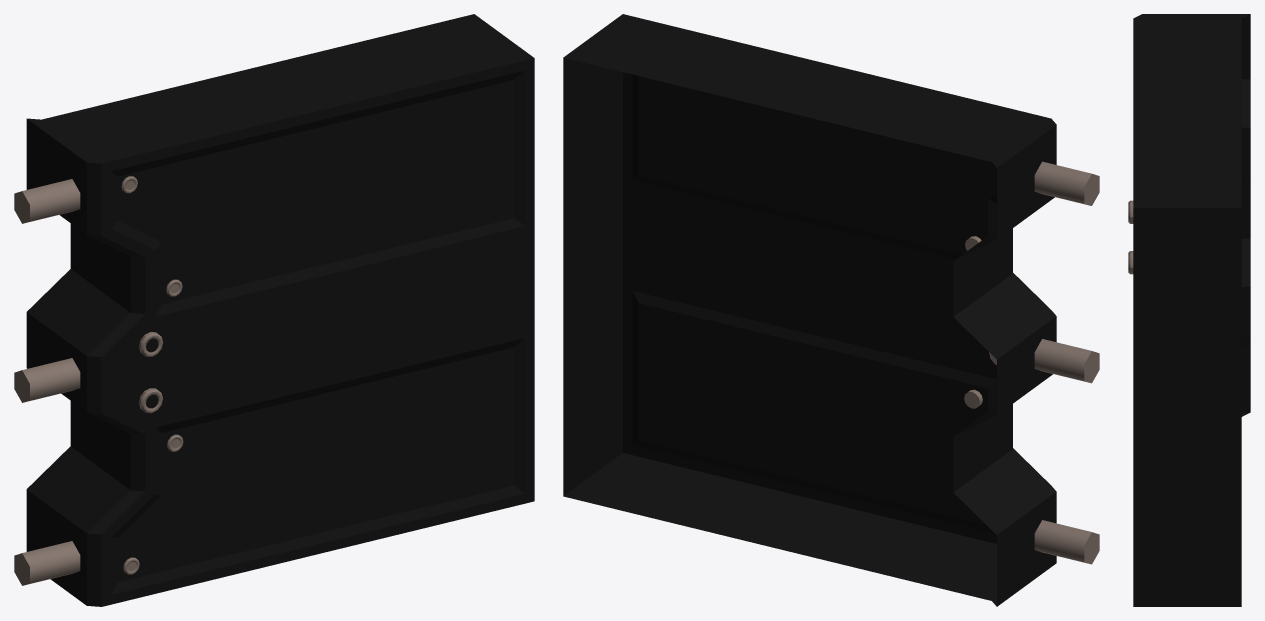
Rendered from M_DoorR.FBX.
The picture shows the model from 3 angles, left to right: view 1: azimuth 30°, elevation 25°; view 2: azimuth 150°, elevation 25°; view 3: azimuth 270°, elevation 25°; orthographic projection. The views are drawn at different scales.
Visible parts, largest first — view 1: M_DoorR; view 2: M_DoorR; view 3: M_DoorR.
Part boxes in pixels (x1,y1,x2,y2): M_DoorR: (14,14,534,606); M_DoorR: (563,14,1099,606); M_DoorR: (1128,14,1250,606).
Size of the model in its own units: 124 by 106 by 29.49.
